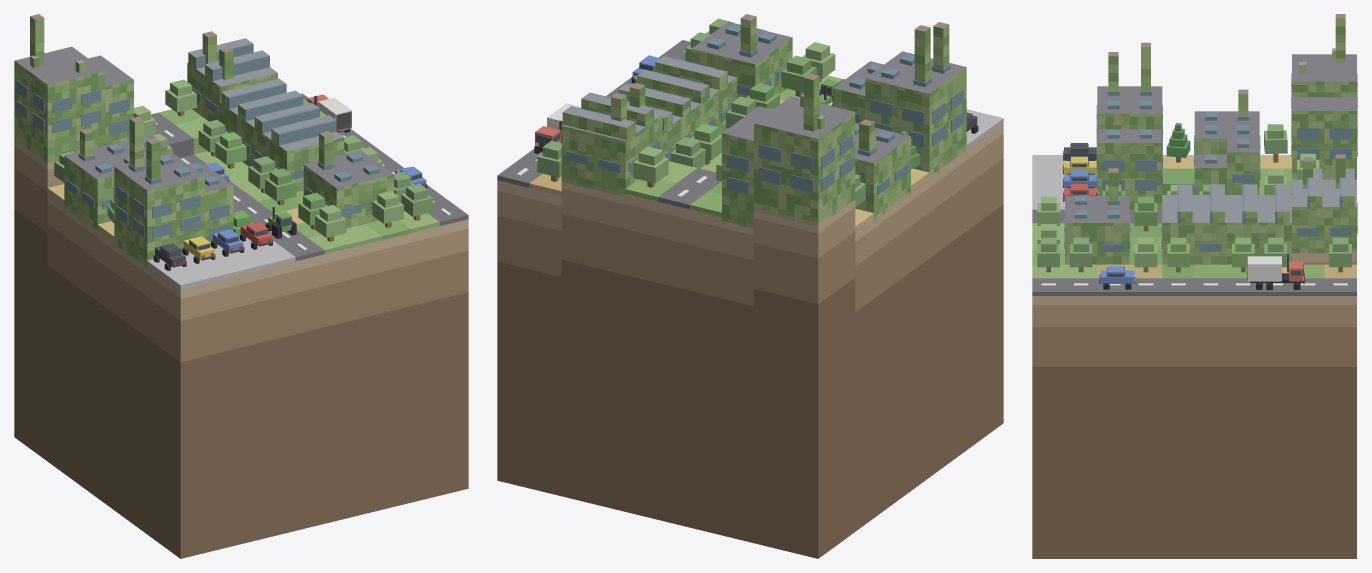
The model's file is block_9_greenfacade_50.glb.
3 renders of one model, left to right at view 1: azimuth 30°, elevation 25°; view 2: azimuth 150°, elevation 25°; view 3: azimuth 270°, elevation 25°, orthographic. The views are drawn at different scales.
Visible parts, largest first — view 1: Patch_LowerLeft_b09_GF, Factories_LowerLeft_b09_GF, Ground_LowerLeft_b09_GF, Roads_LowerLeft_b09_GF, Parking_LowerLeft_b09_GF, Asset_Truck.001_GF, Asset_Tree_Round.013_GF, Asset_Tree_Round.022_GF, Asset_Tree_Round.001_GF, Asset_Tree_Round.007_GF, Asset_Tree_Round.021_GF, Asset_Tree_Round.023_GF (+8 smaller); view 2: Patch_LowerLeft_b09_GF, Factories_LowerLeft_b09_GF, Ground_LowerLeft_b09_GF, Roads_LowerLeft_b09_GF, Asset_Tree_Round.001_GF, Asset_Tree_Round.017_GF, Asset_Tree_Round.005_GF, Asset_Truck.001_GF, Asset_Tree_Round.002_GF, Asset_Tree_Round.021_GF, Asset_Tree_Round.007_GF, Parking_LowerLeft_b09_GF; view 3: Patch_LowerLeft_b09_GF, Factories_LowerLeft_b09_GF, Ground_LowerLeft_b09_GF, Roads_LowerLeft_b09_GF, Asset_Truck.001_GF, Parking_LowerLeft_b09_GF, Asset_Tree_Round.020_GF, Asset_Tree_Round.014_GF, Asset_Tree_Round.013_GF, Asset_Tree_Round.002_GF, Asset_Tree_Round.012_GF, Asset_Tree_Round.018_GF (+11 smaller).
Part boxes in pixels (x1,y1,x2,y2): Patch_LowerLeft_b09_GF: [14, 137, 468, 558]; Factories_LowerLeft_b09_GF: [14, 14, 394, 267]; Ground_LowerLeft_b09_GF: [47, 109, 439, 253]; Roads_LowerLeft_b09_GF: [151, 93, 468, 260]; Parking_LowerLeft_b09_GF: [147, 237, 295, 289]; Asset_Truck.001_GF: [307, 94, 351, 132]; Asset_Tree_Round.013_GF: [265, 168, 296, 205]; Asset_Tree_Round.022_GF: [372, 191, 403, 227]; Asset_Tree_Round.001_GF: [165, 79, 196, 116]; Asset_Tree_Round.007_GF: [215, 132, 246, 168]; Asset_Tree_Round.021_GF: [315, 205, 346, 241]; Asset_Tree_Round.023_GF: [401, 184, 432, 220]; Patch_LowerLeft_b09_GF: [497, 123, 1003, 558]; Factories_LowerLeft_b09_GF: [561, 14, 966, 228]; Ground_LowerLeft_b09_GF: [529, 75, 929, 230]; Roads_LowerLeft_b09_GF: [497, 40, 844, 209]; Asset_Tree_Round.001_GF: [633, 146, 668, 187]; Asset_Tree_Round.017_GF: [781, 55, 816, 96]; Asset_Tree_Round.005_GF: [670, 137, 705, 168]; Asset_Truck.001_GF: [534, 103, 581, 153]; Asset_Tree_Round.002_GF: [537, 140, 561, 181]; Asset_Tree_Round.021_GF: [802, 42, 835, 82]; Asset_Tree_Round.007_GF: [691, 123, 721, 164]; Parking_LowerLeft_b09_GF: [966, 109, 1003, 149]; Patch_LowerLeft_b09_GF: [1032, 253, 1356, 558]; Factories_LowerLeft_b09_GF: [1064, 14, 1357, 264]; Ground_LowerLeft_b09_GF: [1032, 155, 1356, 278]; Roads_LowerLeft_b09_GF: [1032, 194, 1356, 295]; Asset_Truck.001_GF: [1247, 253, 1304, 289]; Parking_LowerLeft_b09_GF: [1032, 155, 1096, 209]; Asset_Tree_Round.020_GF: [1264, 124, 1287, 162]; Asset_Tree_Round.014_GF: [1134, 237, 1157, 272]; Asset_Tree_Round.013_GF: [1134, 196, 1157, 231]; Asset_Tree_Round.002_GF: [1329, 237, 1351, 272]; Asset_Tree_Round.012_GF: [1167, 237, 1189, 272]; Asset_Tree_Round.018_GF: [1070, 237, 1092, 272].
Bounding box in the file's own units: 9.52 × 13.33 × 9.52.
